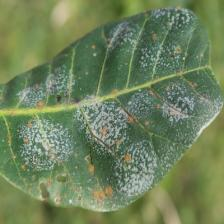red rust: (0, 15, 223, 214)
